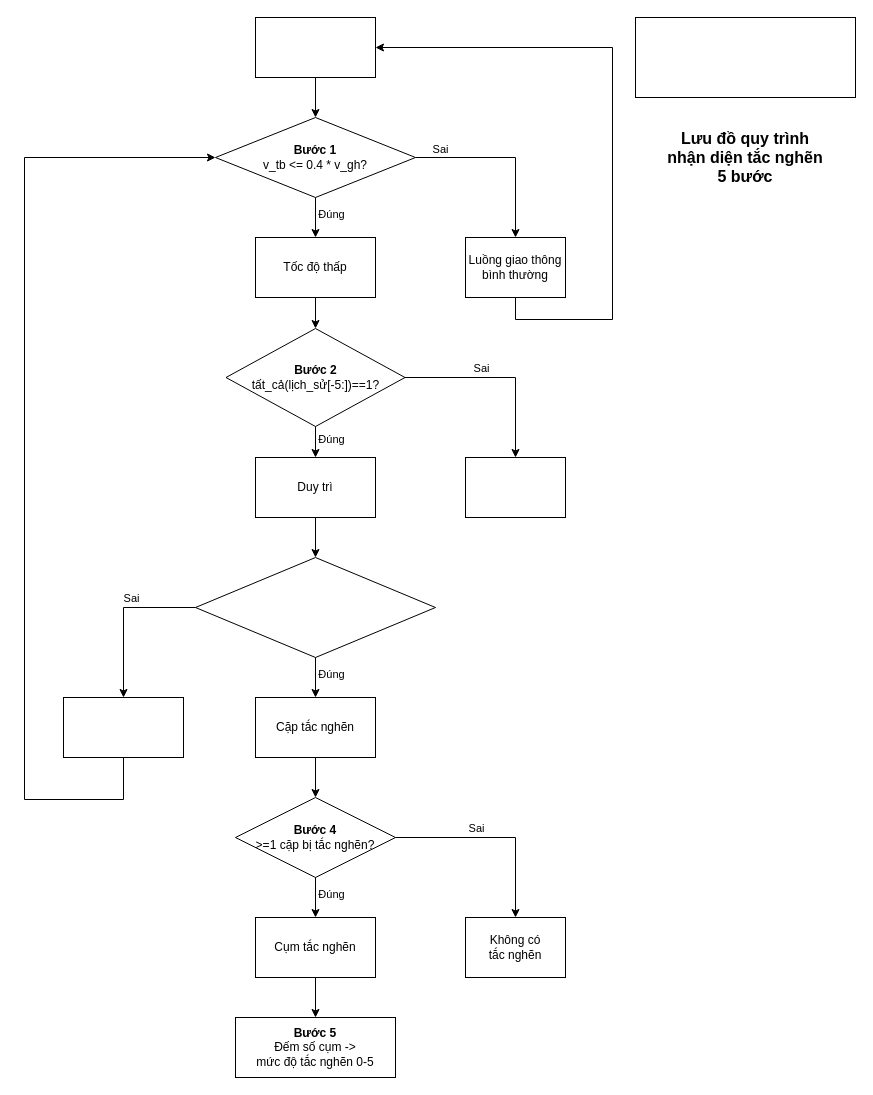
Some shapes in this 873 by 1095 pixel diagram are drawn without their labels. The shapes that lost their labels are listed below. From the top down, each one's box as (x1, y1, x2, y2) in pixels, then its label:
(254, 16, 376, 78): Dữ liệu đầu vào
(634, 16, 856, 98): Tham số Ngưỡng tốc độ: 0.4 * v_gh Duy trì: 5 phút Chu kỳ: 60s
(464, 456, 566, 518): Tốc độ thấp tạm thời
(194, 556, 436, 658): Bước 3 Cả upstream và downstream đều duy trì?
(62, 696, 184, 758): Liên kết không tắc nghẽn
